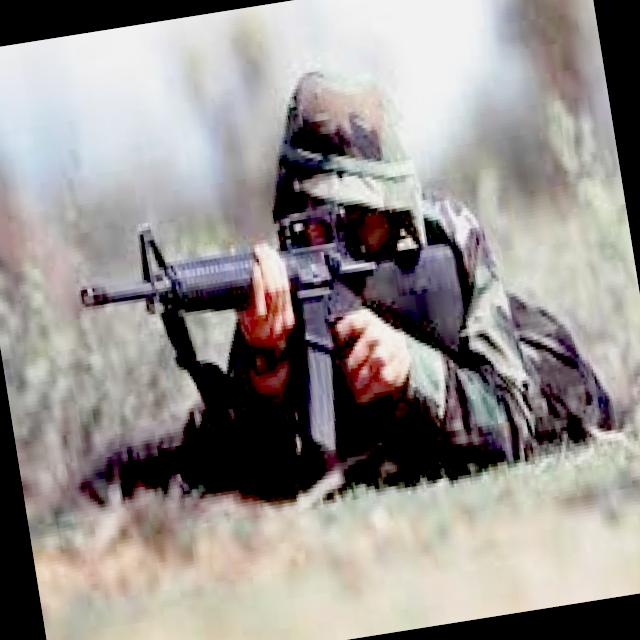m16: (39, 148, 508, 526)
